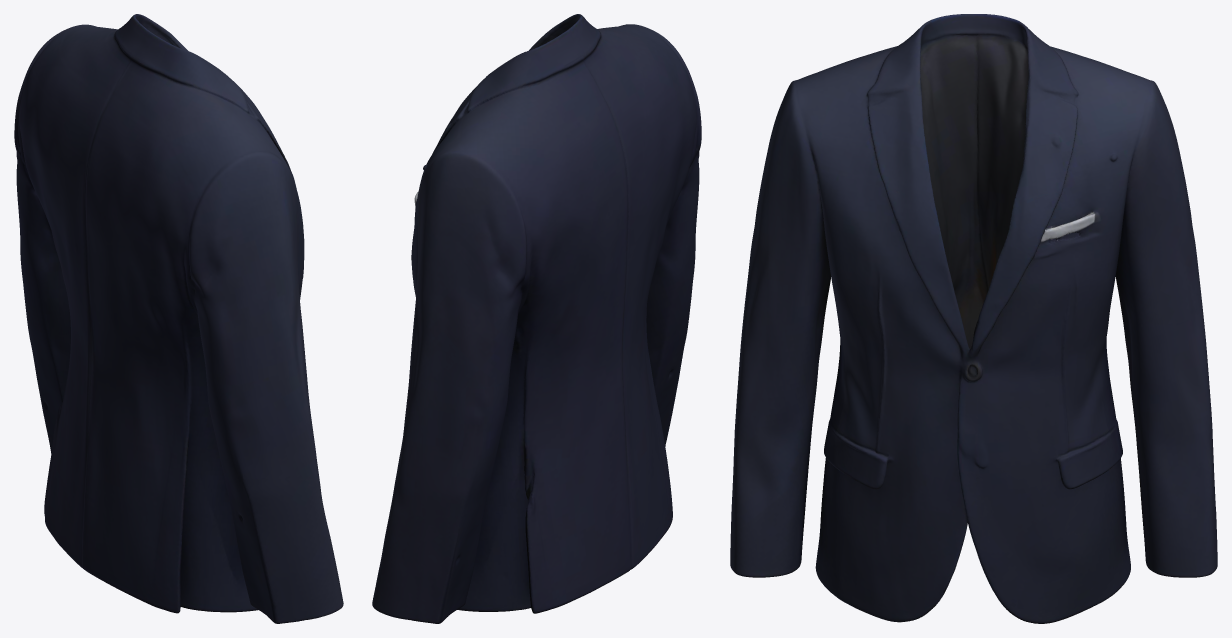
The model's file is e521e290-ca0a-40a4-9774-c1ea699d8f7f_VestXanhden.glb.
3 views of the same model, side by side, from view 1: azimuth 30°, elevation 25°; view 2: azimuth 150°, elevation 25°; view 3: azimuth 270°, elevation 25° (orthographic). The views are drawn at different scales.
Parts seen in each view (by area): view 1: tripo_node_b3e9a36f-ff26-4fbe-a696-79203981d81a; view 2: tripo_node_b3e9a36f-ff26-4fbe-a696-79203981d81a; view 3: tripo_node_b3e9a36f-ff26-4fbe-a696-79203981d81a.
Boxes of the visible parts, bbox=[...] form: tripo_node_b3e9a36f-ff26-4fbe-a696-79203981d81a: bbox=[14, 14, 343, 623]; tripo_node_b3e9a36f-ff26-4fbe-a696-79203981d81a: bbox=[372, 14, 701, 623]; tripo_node_b3e9a36f-ff26-4fbe-a696-79203981d81a: bbox=[730, 14, 1217, 623].
Size of the model in its own units: 0.3818 by 1 by 0.7928.
1 material, 1 textured.
